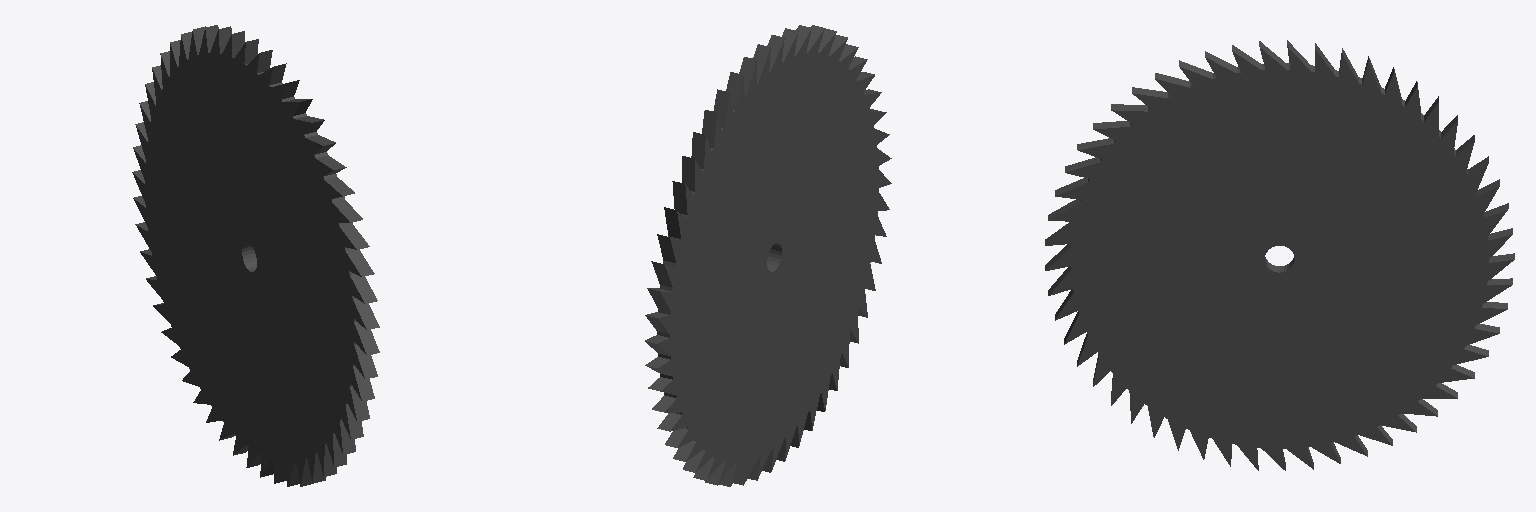
File: SawBlade.obj
The picture shows the model from 3 angles: view 1: azimuth 30°, elevation 25°; view 2: azimuth 150°, elevation 25°; view 3: azimuth 270°, elevation 25°; orthographic projection.
Visible parts, largest first — view 1: Body1; view 2: Body1; view 3: Body1.
Part boxes in pixels (x1,y1,x2,y2): Body1: (132,25,379,486); Body1: (645,25,891,486); Body1: (1045,40,1514,470).
Bounding box in the file's own units: 1.27 × 39.95 × 39.93.